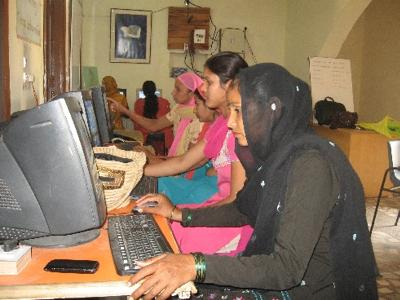person: (124, 63, 382, 300)
